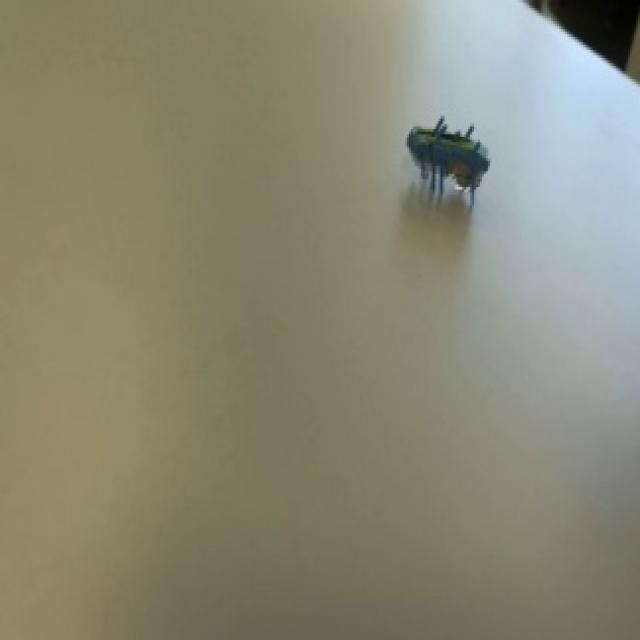3_NanoBug_Celeste: (385, 90, 512, 243)
